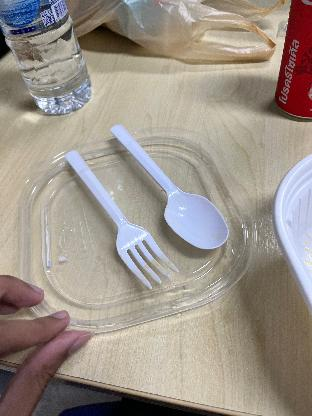Others: (54, 148, 190, 302), (103, 123, 237, 257)
Plastic Bottle: (1, 0, 96, 114)
